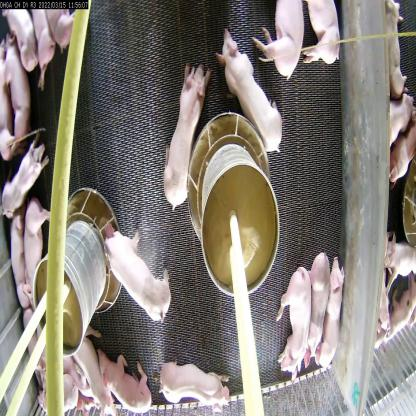Pig: (216, 18, 280, 155), (100, 220, 176, 332), (162, 60, 202, 226), (0, 125, 55, 223), (254, 0, 309, 83), (0, 33, 36, 153), (8, 206, 44, 326), (157, 359, 230, 415), (105, 347, 159, 415), (0, 2, 42, 86), (273, 273, 304, 381), (300, 0, 341, 75), (326, 255, 348, 384), (23, 209, 48, 304), (73, 336, 104, 410), (25, 10, 58, 77), (309, 264, 327, 378), (40, 2, 77, 49)
